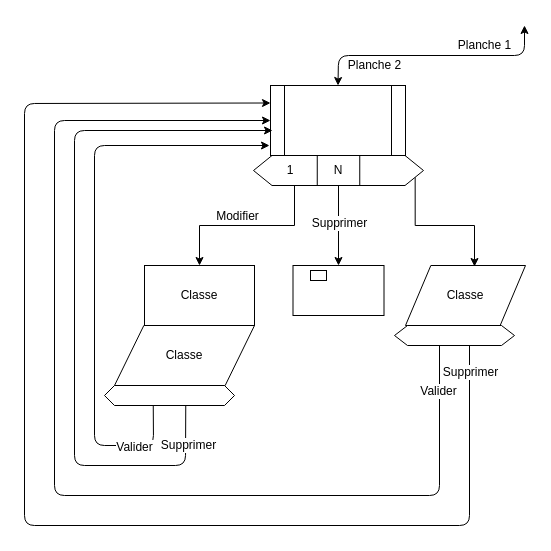
This 551x551 diagram has some shape labels left out. The shapes that lost their labels are listed below. From the top down, each one's box as (x1, y1, x2, y2) in pixels, then its label:
(270, 84, 406, 156): Classe (attributs, ...)
(292, 264, 384, 316): Confirmation
